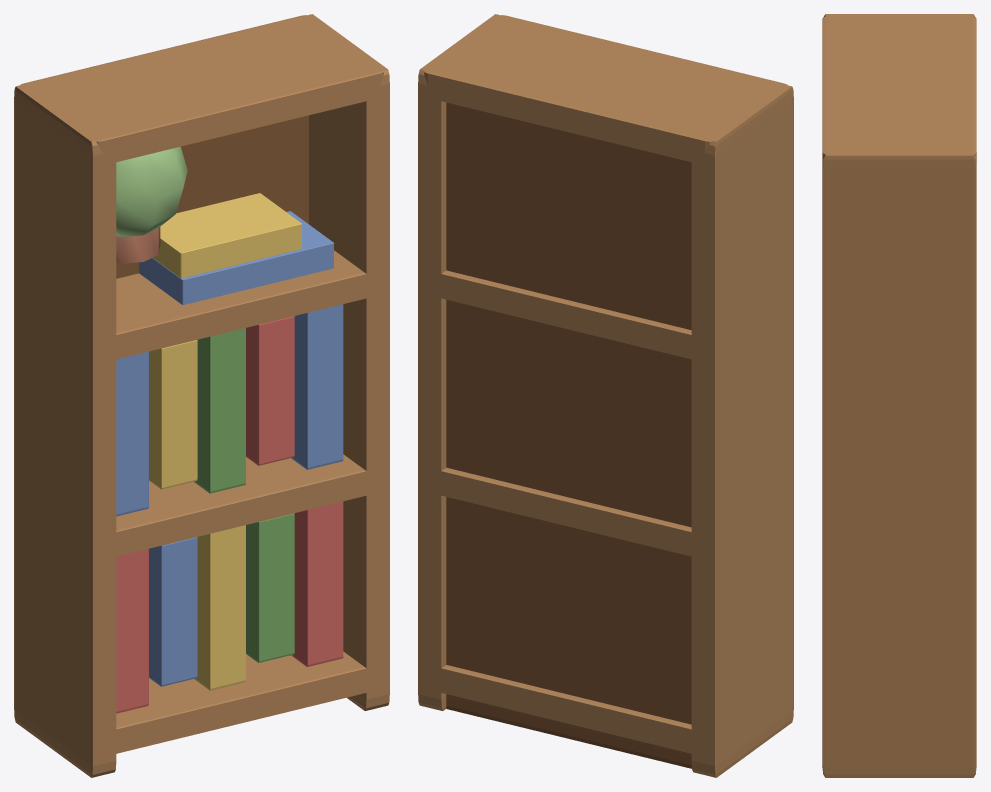
File: bookshelf.glb
3 views of the same model, side by side, from view 1: azimuth 30°, elevation 25°; view 2: azimuth 150°, elevation 25°; view 3: azimuth 270°, elevation 25° (orthographic). The views are drawn at different scales.
Parts seen in each view (by area): view 1: bookshelf; view 2: bookshelf; view 3: bookshelf.
Boxes of the visible parts, left/top/right/bottom form: bookshelf: left=14, top=14, right=389, bottom=777; bookshelf: left=418, top=14, right=793, bottom=777; bookshelf: left=822, top=14, right=976, bottom=777.
Size of the model in its own units: 0.98 by 2 by 0.45.
